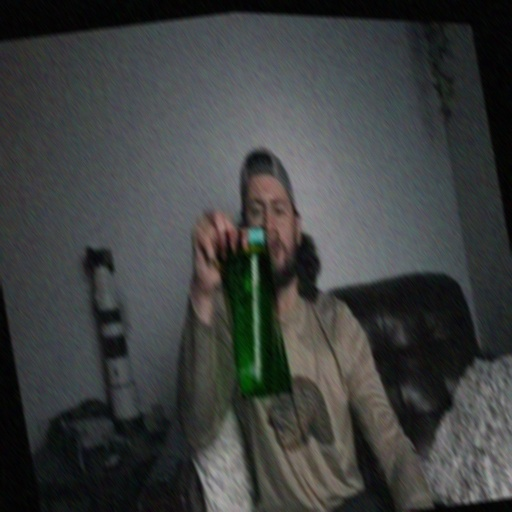bottle: (233, 224, 276, 395)
